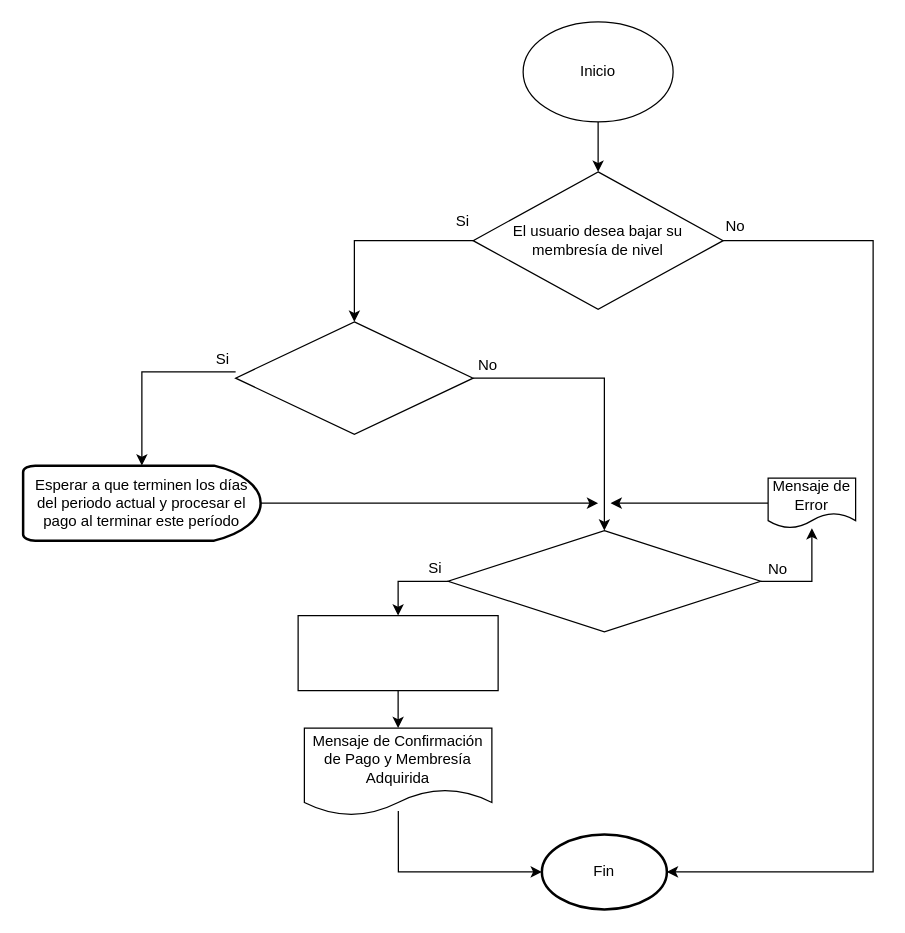
The diagram is 905 pixels wide and 933 high, and some of its shapes have lost their labels. Each missing label, with the centre of its shape:
"Se crea nueva transacción con el nuevo nivel de membresía seleccionado" belongs at [397,652].
"Se proceso el pago por Paypal" belongs at [604,580].
"Tiene días pendientes en el periodo actual?" belongs at [353,377].
